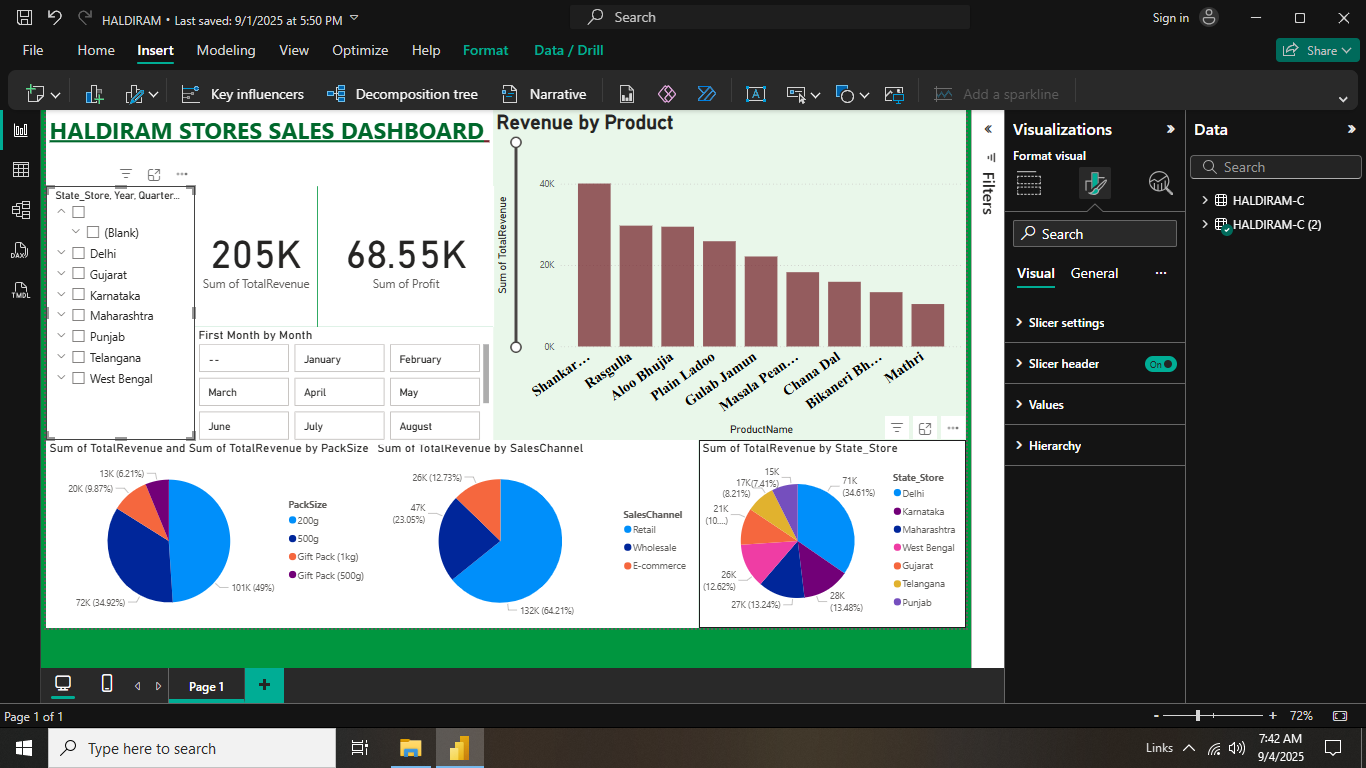

The page's visual inventory and layout, read from the dashboard file:
{"tool":"powerbi","page":{"name":"Page 1","canvas":[1280,720],"ordinal":0},"visuals":[{"type":"columnChart","title":"Revenue by Product","fields":{"Category":["HALDIRAM-C (2).ProductName"],"Y":["Sum(HALDIRAM-C (2).TotalRevenue)"]},"box":[622.4,0,656.9,458],"z":0},{"type":"actionButton","box":[0,0,100,40],"z":1000},{"type":"pieChart","fields":{"Y":["Sum(HALDIRAM-C (2).TotalRevenue)"],"Category":["HALDIRAM-C (2).SalesChannel"]},"box":[456.9,458.6,451.7,262.1],"z":2000},{"type":"pieChart","fields":{"Y":["Sum(HALDIRAM-C (2).TotalRevenue)"],"Category":["HALDIRAM-C (2).State_Store"]},"box":[908.6,458.6,370.7,262.1],"z":3000},{"type":"card","fields":{"Values":["Sum(HALDIRAM-C (2).TotalRevenue)"]},"box":[207.3,105.7,169.7,196.2],"z":4000},{"type":"card","fields":{"Values":["Sum(HALDIRAM-C (2).Profit)"]},"box":[378.4,105.7,244.9,196.2],"z":5000},{"type":"slicer","fields":{"Values":["HALDIRAM-C (2).State_Store","HALDIRAM-C (2).OrderDate.Variation.Date Hierarchy.Year","HALDIRAM-C (2).OrderDate.Variation.Date Hierarchy.Quarter","HALDIRAM-C (2).OrderDate.Variation.Date Hierarchy.Month","HALDIRAM-C (2).OrderDate.Variation.Date Hierarchy.Day"]},"box":[0,105.7,207.3,353.4],"z":6000},{"type":"advancedSlicerVisual","fields":{"Values":["HALDIRAM-C (2).OrderDate.Variation.Date Hierarchy.Month"]},"box":[207.3,301.9,414.6,164.2],"z":7000},{"type":"pieChart","fields":{"Y":["Sum(HALDIRAM-C (2).TotalRevenue)","Sum(HALDIRAM-C (2).TotalRevenue)"],"Category":["HALDIRAM-C (2).PackSize"]},"box":[0,458.6,456.9,262.1],"z":8000},{"type":"textbox","box":[0,0,621.9,105.7],"z":8001}]}

Visuals, with their boxes on the page's 1280x720 design canvas (x1, y1, x2, y2). These are canvas units, not pixel positions in the 1366x768 screenshot, which may show the page scaled, cropped or inside an application window:
"Revenue by Product" columnChart: bbox(622, 0, 1279, 458)
actionButton: bbox(0, 0, 100, 40)
pieChart - Sum(HALDIRAM-C (2).TotalRevenue) x HALDIRAM-C (2).SalesChannel: bbox(457, 459, 909, 721)
pieChart - Sum(HALDIRAM-C (2).TotalRevenue) x HALDIRAM-C (2).State_Store: bbox(909, 459, 1279, 721)
card - Sum(HALDIRAM-C (2).TotalRevenue): bbox(207, 106, 377, 302)
card - Sum(HALDIRAM-C (2).Profit): bbox(378, 106, 623, 302)
slicer - HALDIRAM-C (2).State_Store x HALDIRAM-C (2).OrderDate.Variation.Date Hierarchy.Year: bbox(0, 106, 207, 459)
advancedSlicerVisual - HALDIRAM-C (2).OrderDate.Variation.Date Hierarchy.Month: bbox(207, 302, 622, 466)
pieChart - Sum(HALDIRAM-C (2).TotalRevenue) x Sum(HALDIRAM-C (2).TotalRevenue): bbox(0, 459, 457, 721)
textbox: bbox(0, 0, 622, 106)
